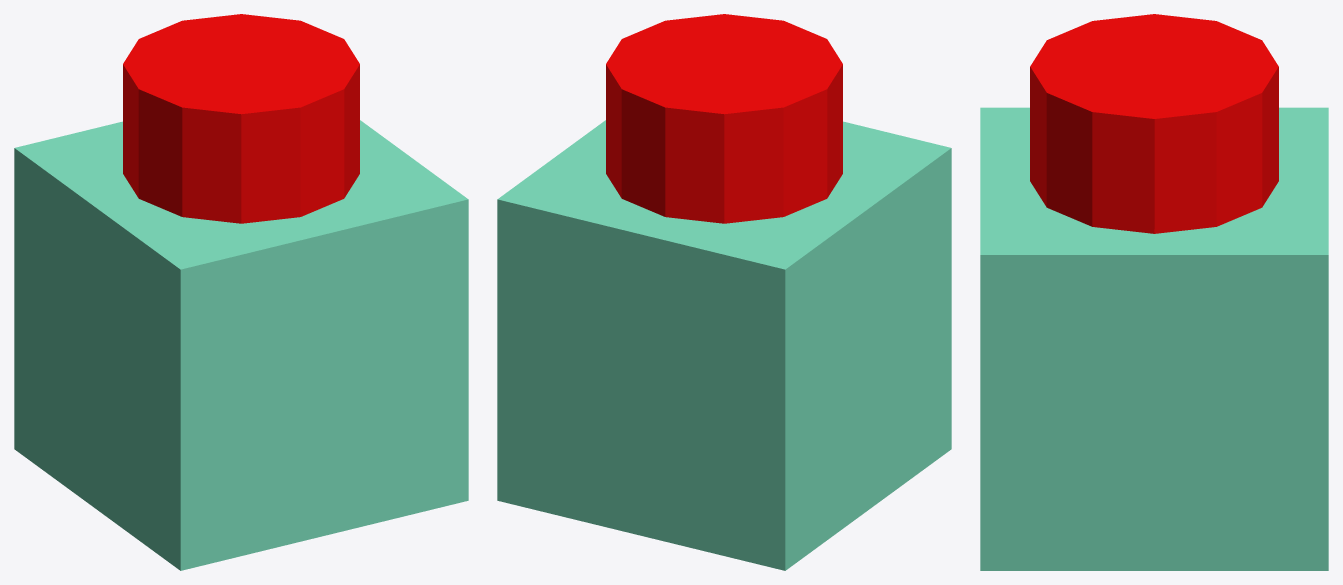
File: S4G_Button.fbx
3 views of the same model, side by side, from view 1: azimuth 30°, elevation 25°; view 2: azimuth 150°, elevation 25°; view 3: azimuth 270°, elevation 25° (orthographic). The views are drawn at different scales.
Parts seen in each view (by area): view 1: Base, Button; view 2: Base, Button; view 3: Base, Button.
Boxes of the visible parts, x1,y1,x2,y2 form: Base: (14,120,468,570); Button: (123,14,359,223); Base: (497,120,951,570); Button: (606,14,842,223); Base: (980,107,1328,570); Button: (1030,14,1278,233).
Bounding box in the file's own units: 200 × 273 × 200.
